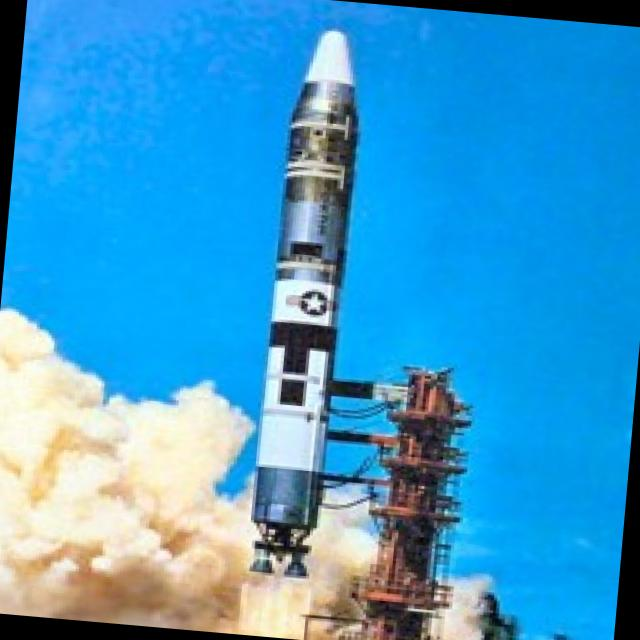rocket: (241, 20, 387, 587)
